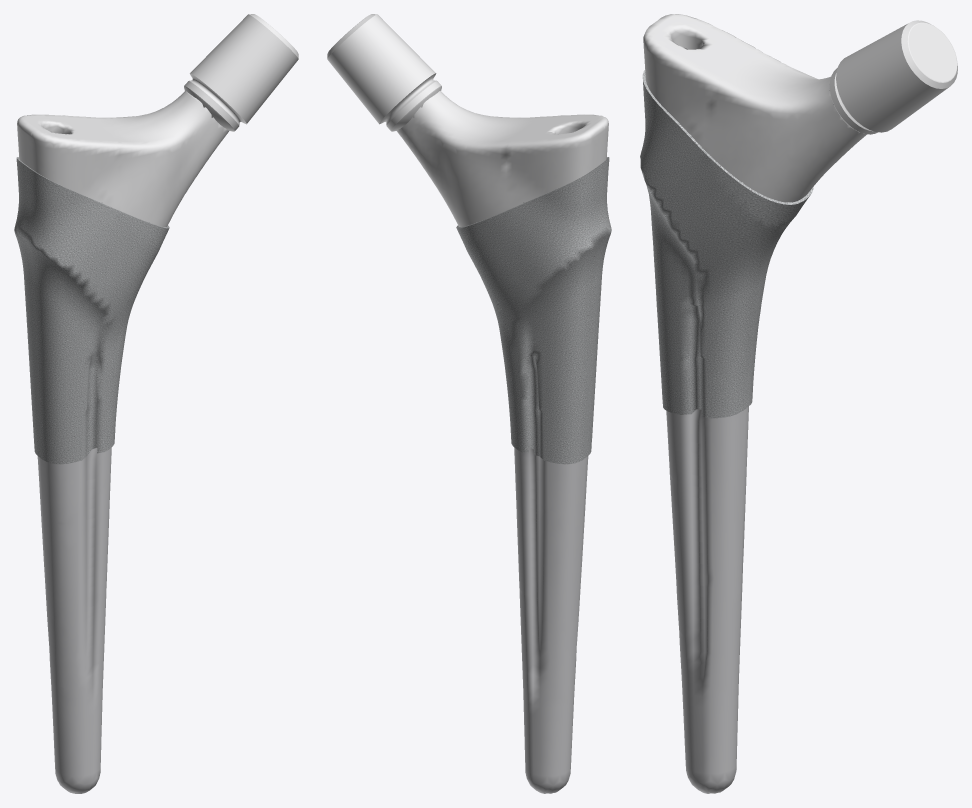
File: deltaway_stem_lod1.glb
The picture shows the model from 3 angles, left to right: view 1: azimuth 30°, elevation 25°; view 2: azimuth 150°, elevation 25°; view 3: azimuth 330°, elevation 25°; orthographic projection. The views are drawn at different scales.
Visible parts, largest first — view 1: DeltaWay_stem_4_lod1; view 2: DeltaWay_stem_4_lod1; view 3: DeltaWay_stem_4_lod1.
Boxes of the visible parts, bbox=[...] form: DeltaWay_stem_4_lod1: bbox=[14, 14, 298, 793]; DeltaWay_stem_4_lod1: bbox=[327, 14, 611, 793]; DeltaWay_stem_4_lod1: bbox=[640, 14, 957, 793].
Size of the model in its own units: 0.0568 by 0.1473 by 0.0178.
Materials: 3 (1 with a texture image).
